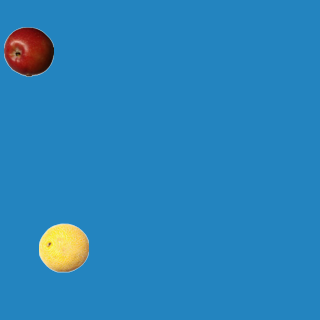Apple Braeburn: (3, 26, 53, 76)
Cantaloupe 1: (38, 222, 88, 272)
